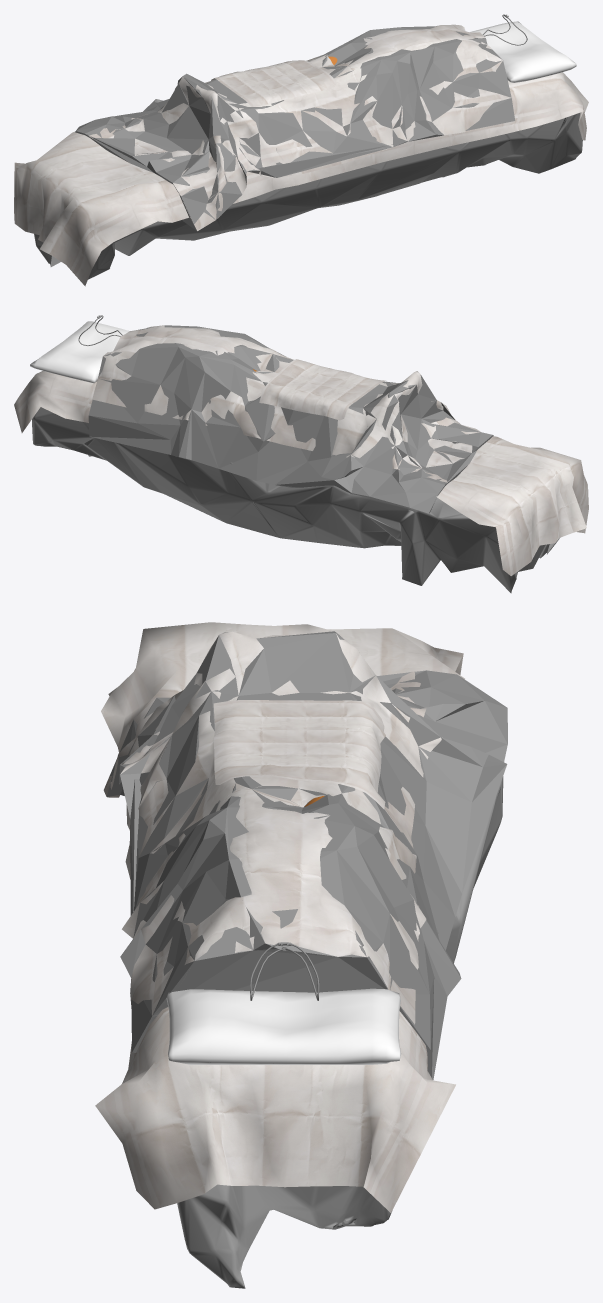
The model's file is Patient-ChampSterile-LunetteO2.FBX.
3 views of the same model, one above another, from view 1: azimuth 30°, elevation 25°; view 2: azimuth 150°, elevation 25°; view 3: azimuth 270°, elevation 25° (orthographic). The views are drawn at different scales.
Visible parts, largest first — view 1: PapierSterilepatientColider, papierSterile, PapierSterilePatient, PlasticTableScope, ChampsSterile, oreiller; view 2: PapierSterilepatientColider, PlasticTableScope, papierSterile, PapierSterilePatient, ChampsSterile, oreiller; view 3: PapierSterilepatientColider, papierSterile, PapierSterilePatient, oreiller, ChampsSterile, PlasticTableScope.
Boxes of the visible parts, x1,y1,x2,y2 form: PapierSterilepatientColider: (75, 26, 515, 230); papierSterile: (14, 72, 588, 286); PapierSterilePatient: (89, 24, 514, 230); PlasticTableScope: (34, 112, 582, 279); ChampsSterile: (211, 60, 336, 106); oreiller: (470, 21, 576, 82); PapierSterilepatientColider: (88, 325, 493, 513); PlasticTableScope: (32, 407, 559, 593); papierSterile: (14, 371, 588, 575); PapierSterilePatient: (92, 325, 480, 482); ChampsSterile: (259, 359, 385, 420); oreiller: (30, 321, 129, 383); PapierSterilepatientColider: (106, 631, 507, 1079); papierSterile: (95, 622, 464, 1212); PapierSterilePatient: (103, 631, 442, 1053); oreiller: (166, 988, 401, 1064); ChampsSterile: (213, 700, 385, 809); PlasticTableScope: (177, 698, 503, 1288).
Size of the model in its own units: 311 by 91.48 by 103.
